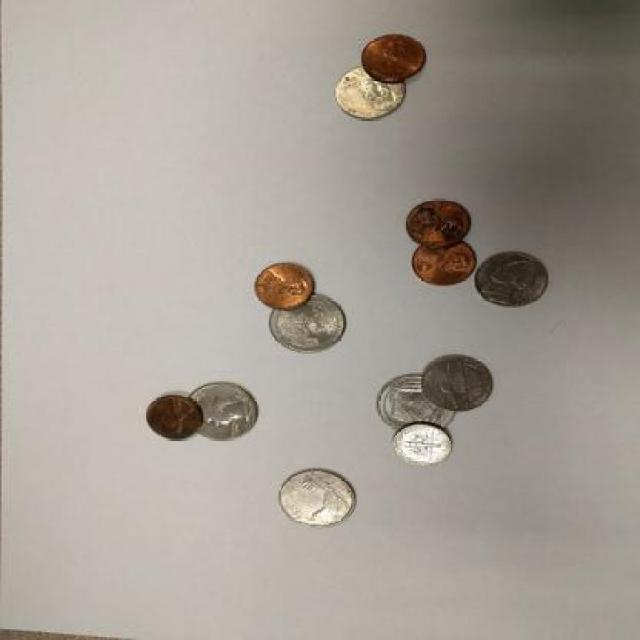Dime: (390, 422, 456, 466)
Nickel: (184, 380, 258, 445), (280, 469, 357, 531), (477, 246, 548, 311), (423, 356, 497, 412)
Penny: (406, 198, 474, 250), (408, 238, 477, 286), (362, 32, 429, 78), (253, 263, 316, 311), (146, 396, 203, 442)
Quarter: (268, 294, 346, 357), (378, 374, 457, 436)
